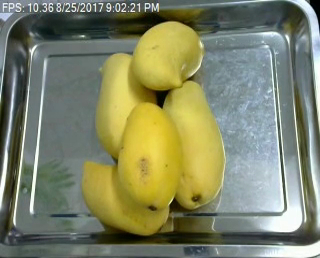Mango: (159, 81, 226, 211), (89, 52, 163, 162), (72, 157, 171, 237), (116, 102, 186, 206), (130, 18, 210, 91)
